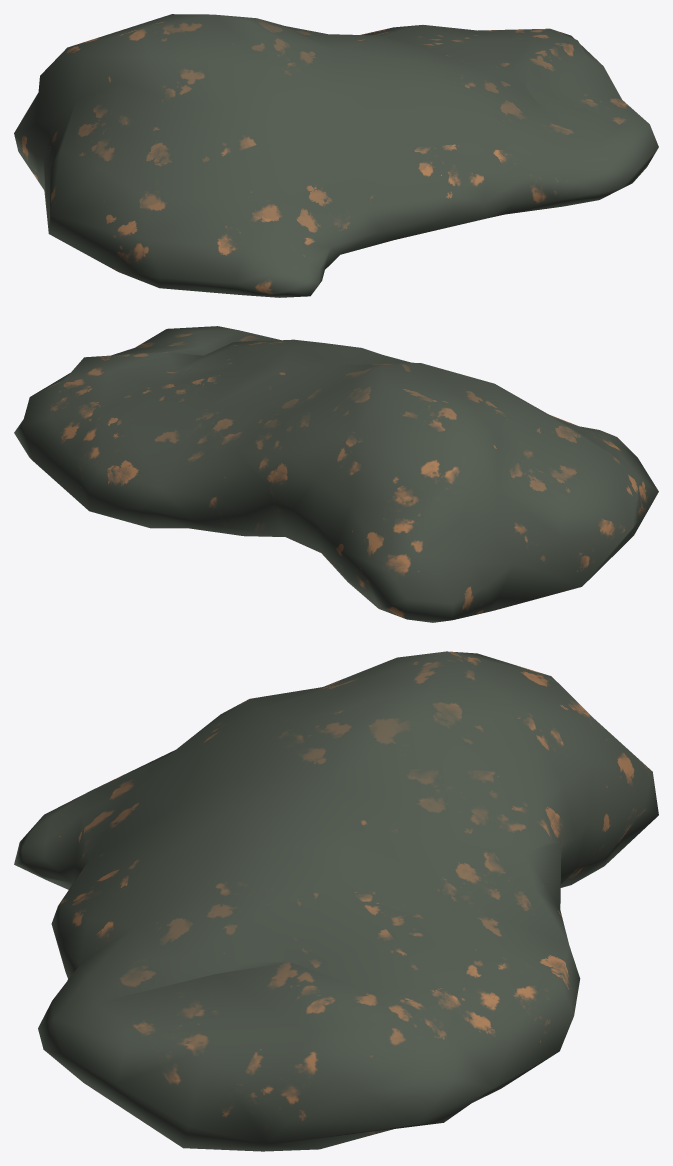
Rendered from CommsRock.fbx.
3 views of the same model, one above another, from view 1: azimuth 30°, elevation 25°; view 2: azimuth 150°, elevation 25°; view 3: azimuth 270°, elevation 25° (orthographic). The views are drawn at different scales.
Visible parts, largest first — view 1: thermalVent_temp.001; view 2: thermalVent_temp.001; view 3: thermalVent_temp.001.
Boxes of the visible parts, left/top/right/bottom form: thermalVent_temp.001: left=14, top=14, right=658, bottom=297; thermalVent_temp.001: left=14, top=326, right=658, bottom=622; thermalVent_temp.001: left=14, top=651, right=658, bottom=1151.
Size of the model in its own units: 9.7 by 2.86 by 6.98.
